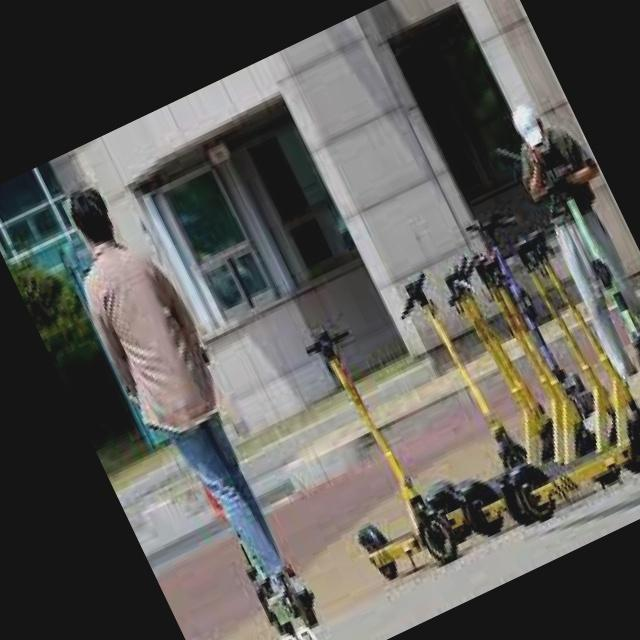bare_head: (48, 184, 131, 263)
human: (62, 177, 328, 597)
kickboard: (228, 567, 340, 640)
